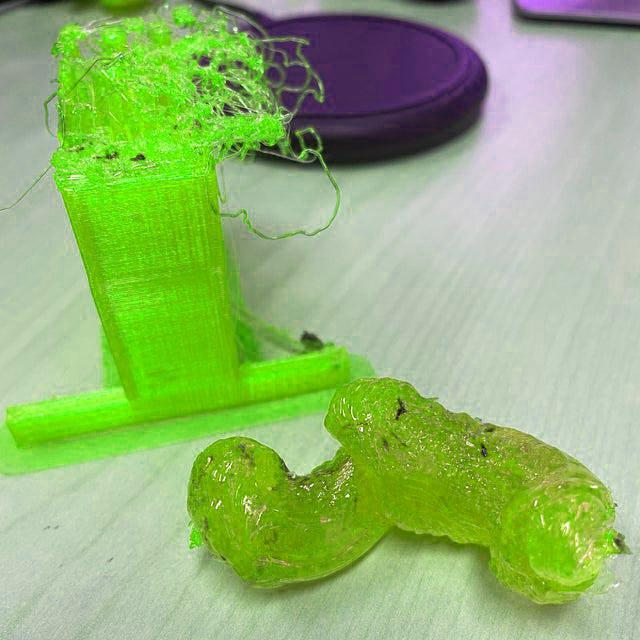Spaghetti: (40, 1, 332, 176), (204, 170, 346, 247)
